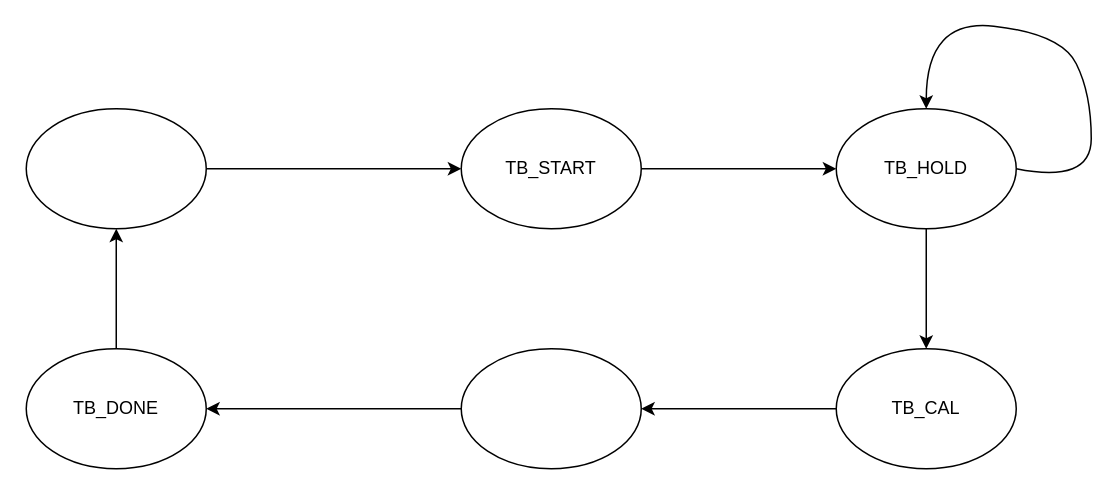
This 1118x497 diagram has some shape labels left out. Each missing label, with the centre of its shape:
TB_FLASH: [550,408]
TB_IDLE: [115,168]
